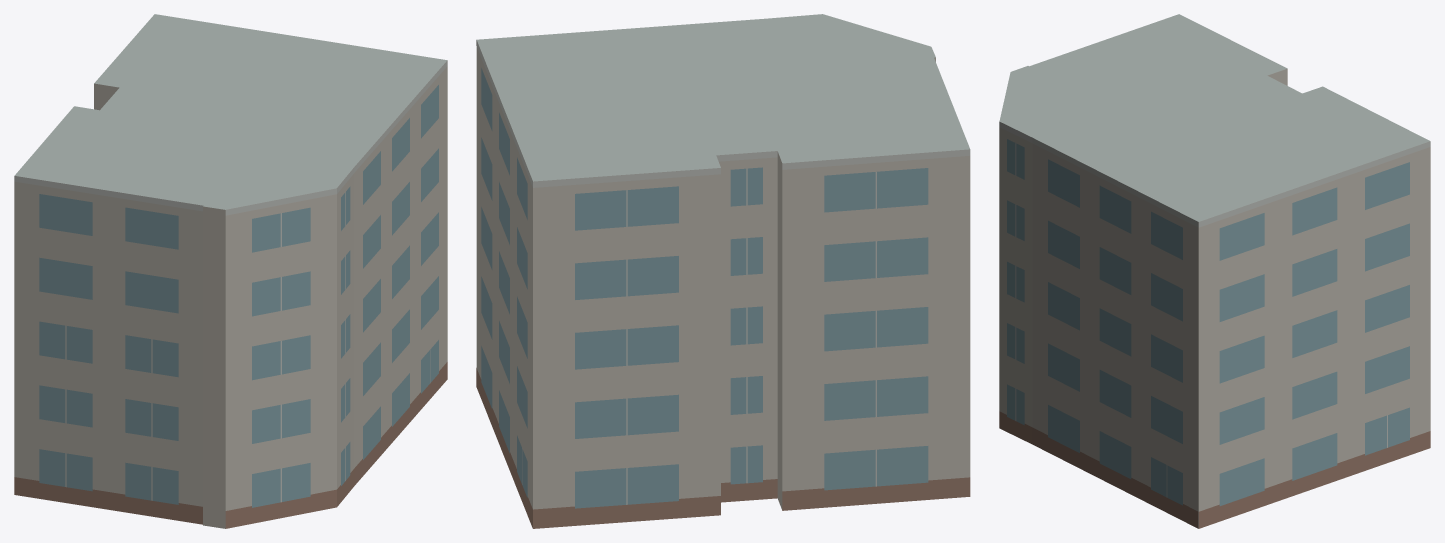
The model's file is survey-upis-32867117.glb.
3 renders of one model, left to right at view 1: azimuth 30°, elevation 25°; view 2: azimuth 150°, elevation 25°; view 3: azimuth 270°, elevation 25°, orthographic. The views are drawn at different scales.
Visible parts, largest first — view 1: survey-upis-32867117.tmp; view 2: survey-upis-32867117.tmp; view 3: survey-upis-32867117.tmp.
Boxes of the visible parts, box(x1,y1,x2,y2) form: survey-upis-32867117.tmp: box(14, 14, 447, 528); survey-upis-32867117.tmp: box(476, 14, 970, 528); survey-upis-32867117.tmp: box(999, 14, 1430, 528).
Size of the model in its own units: 19.2 by 13.2 by 16.82.
